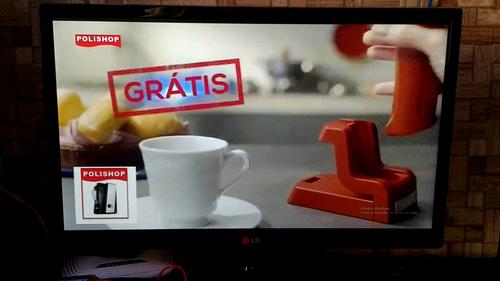Polishop #1: (73, 166, 136, 225)
